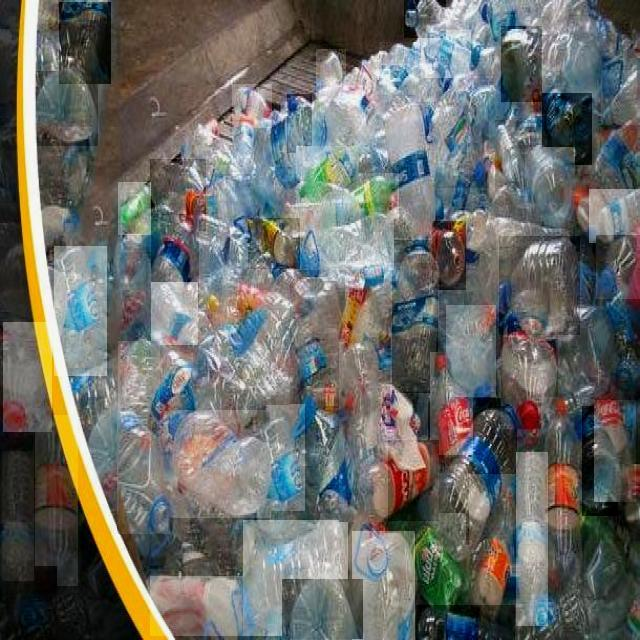BIODEGRADABLE: (428, 398, 517, 545), (243, 520, 348, 636), (170, 411, 271, 518), (340, 343, 390, 522), (499, 236, 580, 335), (541, 397, 583, 586), (295, 403, 363, 513), (35, 415, 78, 586), (469, 474, 519, 618), (385, 102, 437, 238), (290, 278, 345, 406), (392, 240, 438, 393), (401, 513, 466, 620), (54, 246, 107, 376), (352, 531, 415, 640), (118, 412, 172, 536), (361, 440, 439, 521), (501, 326, 558, 429), (150, 576, 243, 636), (516, 452, 548, 626), (295, 214, 394, 270), (584, 541, 640, 640), (3, 322, 52, 432), (436, 92, 489, 190), (34, 72, 98, 148), (282, 579, 363, 639), (446, 305, 496, 397), (430, 352, 473, 455), (151, 215, 199, 307), (296, 146, 359, 216), (594, 400, 636, 502), (59, 2, 111, 84), (2, 451, 34, 581), (266, 405, 305, 511), (150, 159, 206, 231), (582, 406, 618, 516), (526, 147, 575, 227), (6, 566, 57, 640), (542, 93, 592, 165), (416, 605, 515, 640), (118, 341, 160, 419), (496, 120, 534, 205), (501, 26, 542, 102), (151, 282, 198, 345), (596, 235, 640, 299), (589, 189, 640, 243), (248, 218, 300, 269), (421, 30, 471, 78), (432, 221, 466, 290), (350, 173, 399, 219), (601, 70, 640, 125), (380, 42, 418, 95), (232, 84, 272, 128), (118, 182, 151, 235), (404, 0, 446, 38), (287, 94, 312, 153), (316, 49, 346, 98), (232, 120, 254, 174)
